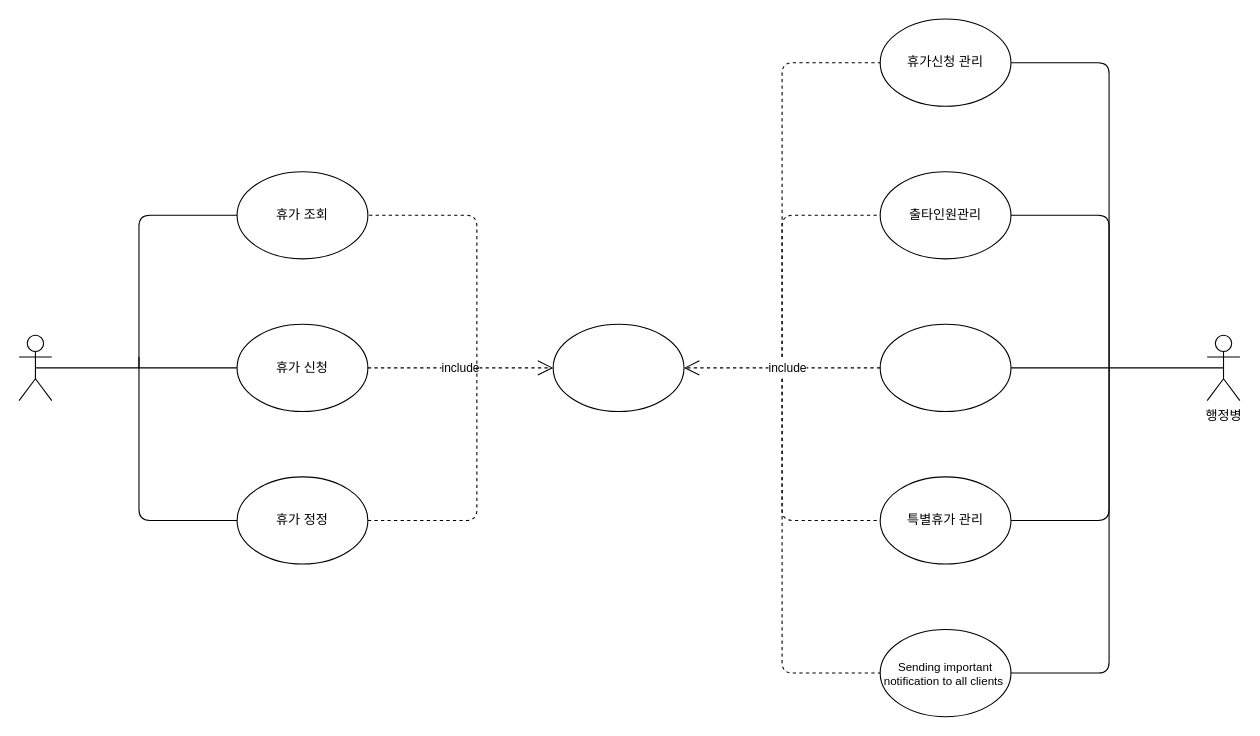
The diagram is 1260 pixels wide and 736 high, and some of its shapes have lost their labels. Here are the shapes that lost their labels. From the top down, the centre of each, then its label:
pixel 35 367: 병사
pixel 618 367: 로그인
pixel 945 367: 병사 관리
